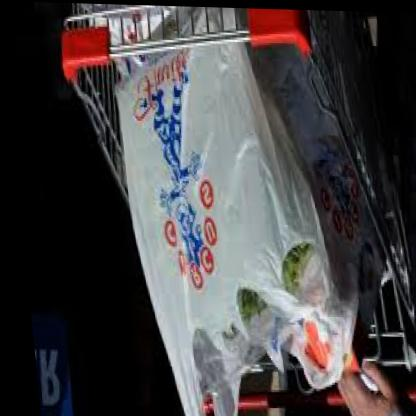Plastic: (106, 16, 330, 414)
